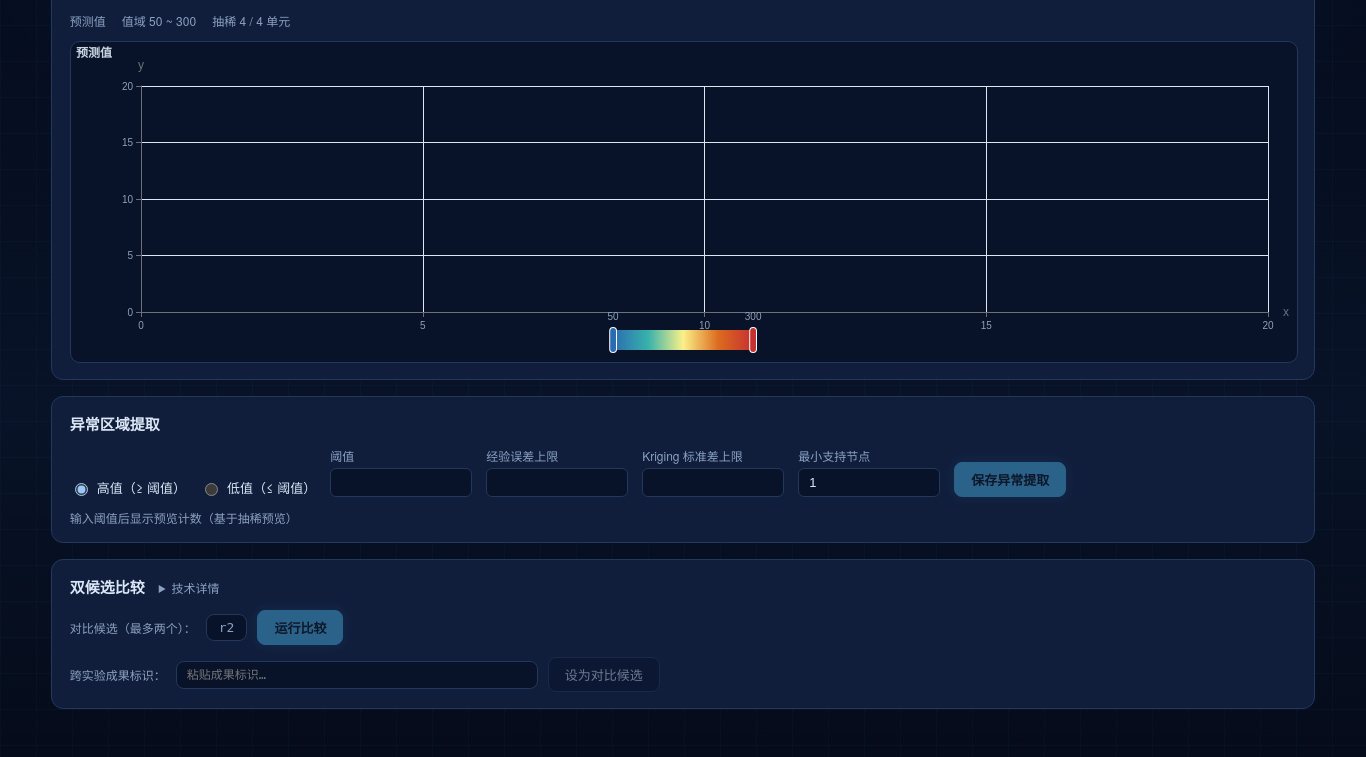
it: CandidateComparison 双候选比较 › 兼容比较显示成对公共指标差与场差摘要
(page scrolled)
Click the button with test id "comparison-second-r2".
click(227, 628)  # box [206,614,248,641]
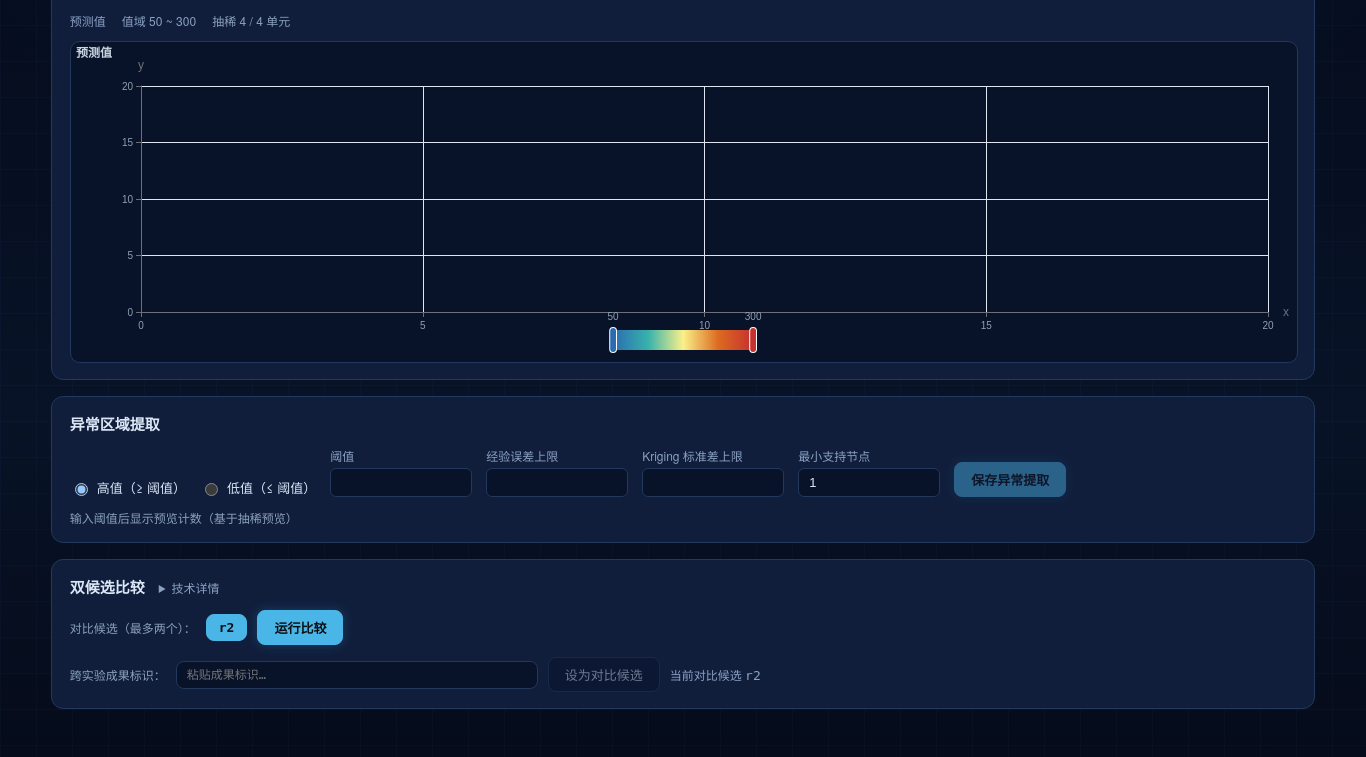
Click the button with test id "comparison-run".
click(300, 628)  # box [257,610,343,645]
(page scrolled)
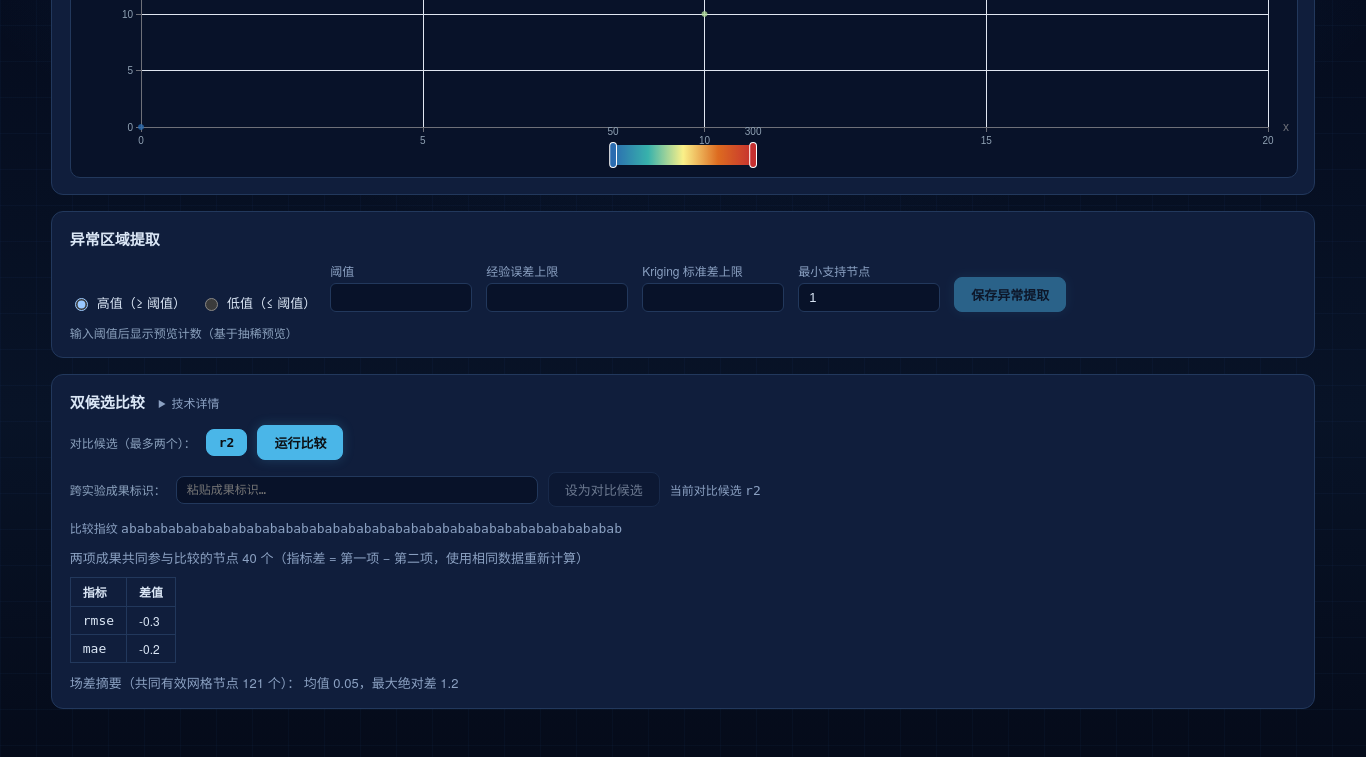
Now the element with test id "comparison-compatible" is shown, box [70,548,589,692]
Now the text with test id "common-valid-count" shows "40", box [70,548,589,567]
Now the number of rows with test id "metric-delta-row" is 2, box [70,607,176,635]; [70,635,176,663]
